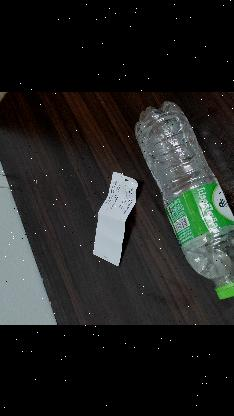Others: (87, 170, 143, 264)
Plastic Bottle: (132, 98, 234, 301)
